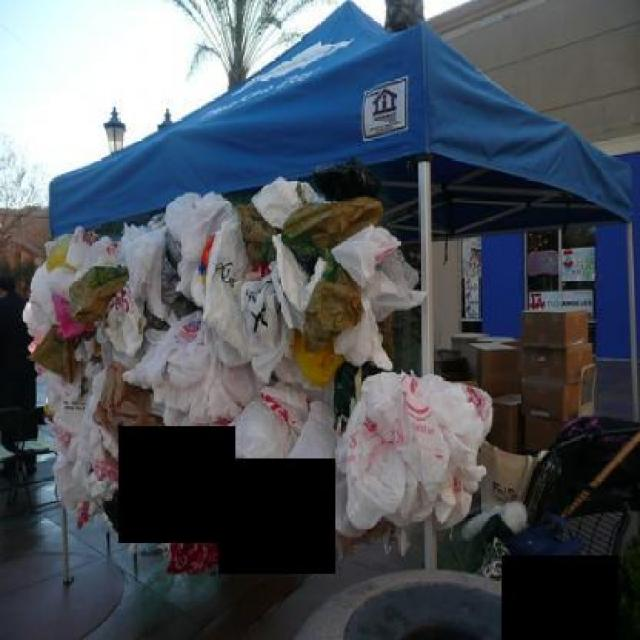plastic bag: (17, 205, 517, 570)
